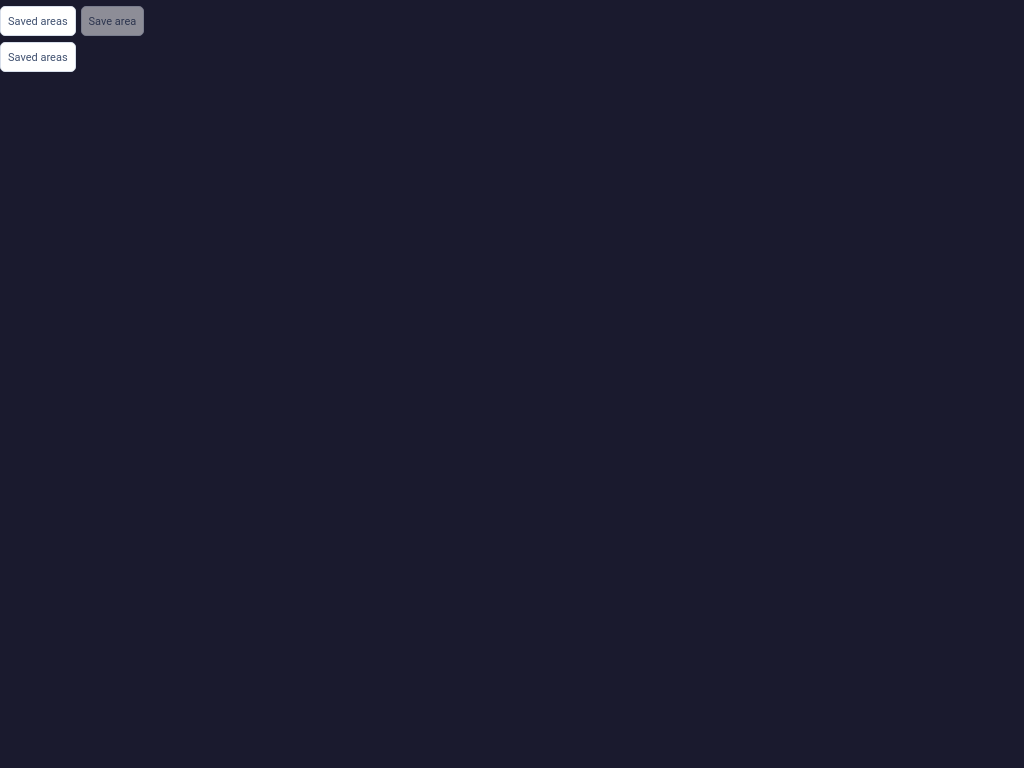
Test case: read failures block writes and migration, while retaining an explicit retry path
Expected: the button "Save area" is disabled, x1=81 y1=6 x2=144 y2=36
Click the 1st button "Saved areas": (38, 21) x1=0 y1=6 x2=76 y2=36
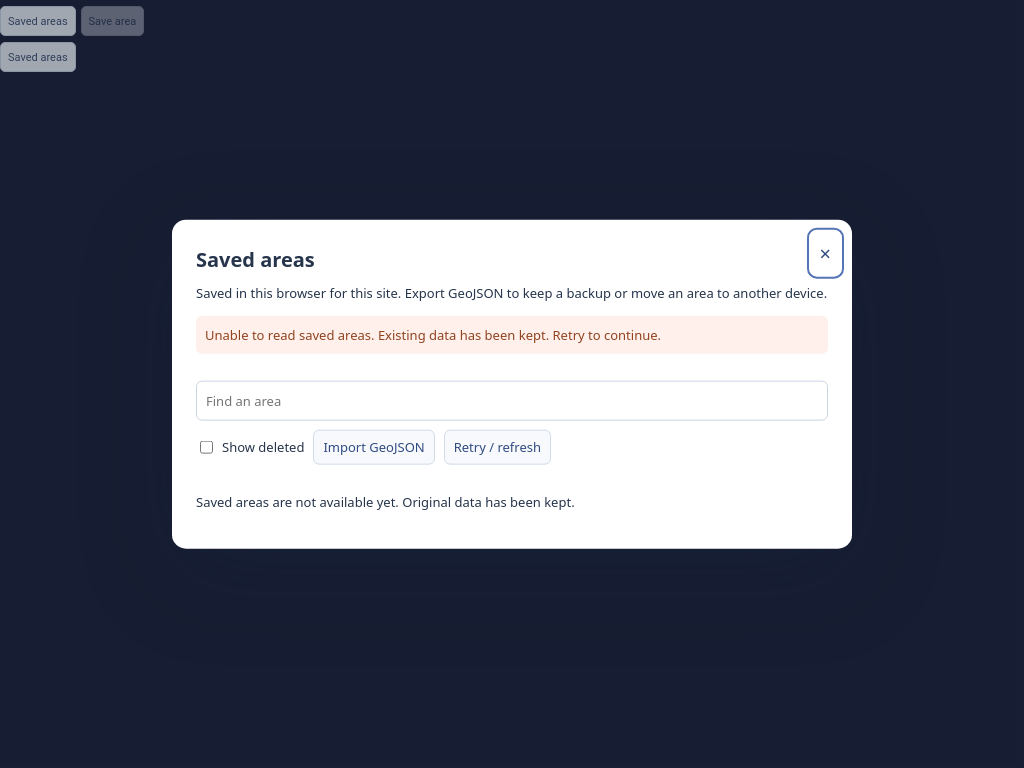
Result: the message "Unable to read saved areas. Existing data has been kept. Retry to continue." is shown at x1=196 y1=316 x2=828 y2=354
